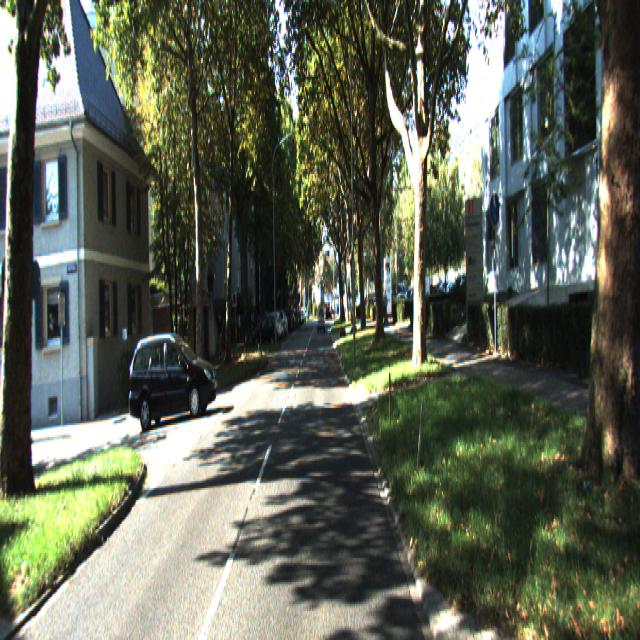Car: (128, 332, 218, 431), (251, 310, 276, 342)
